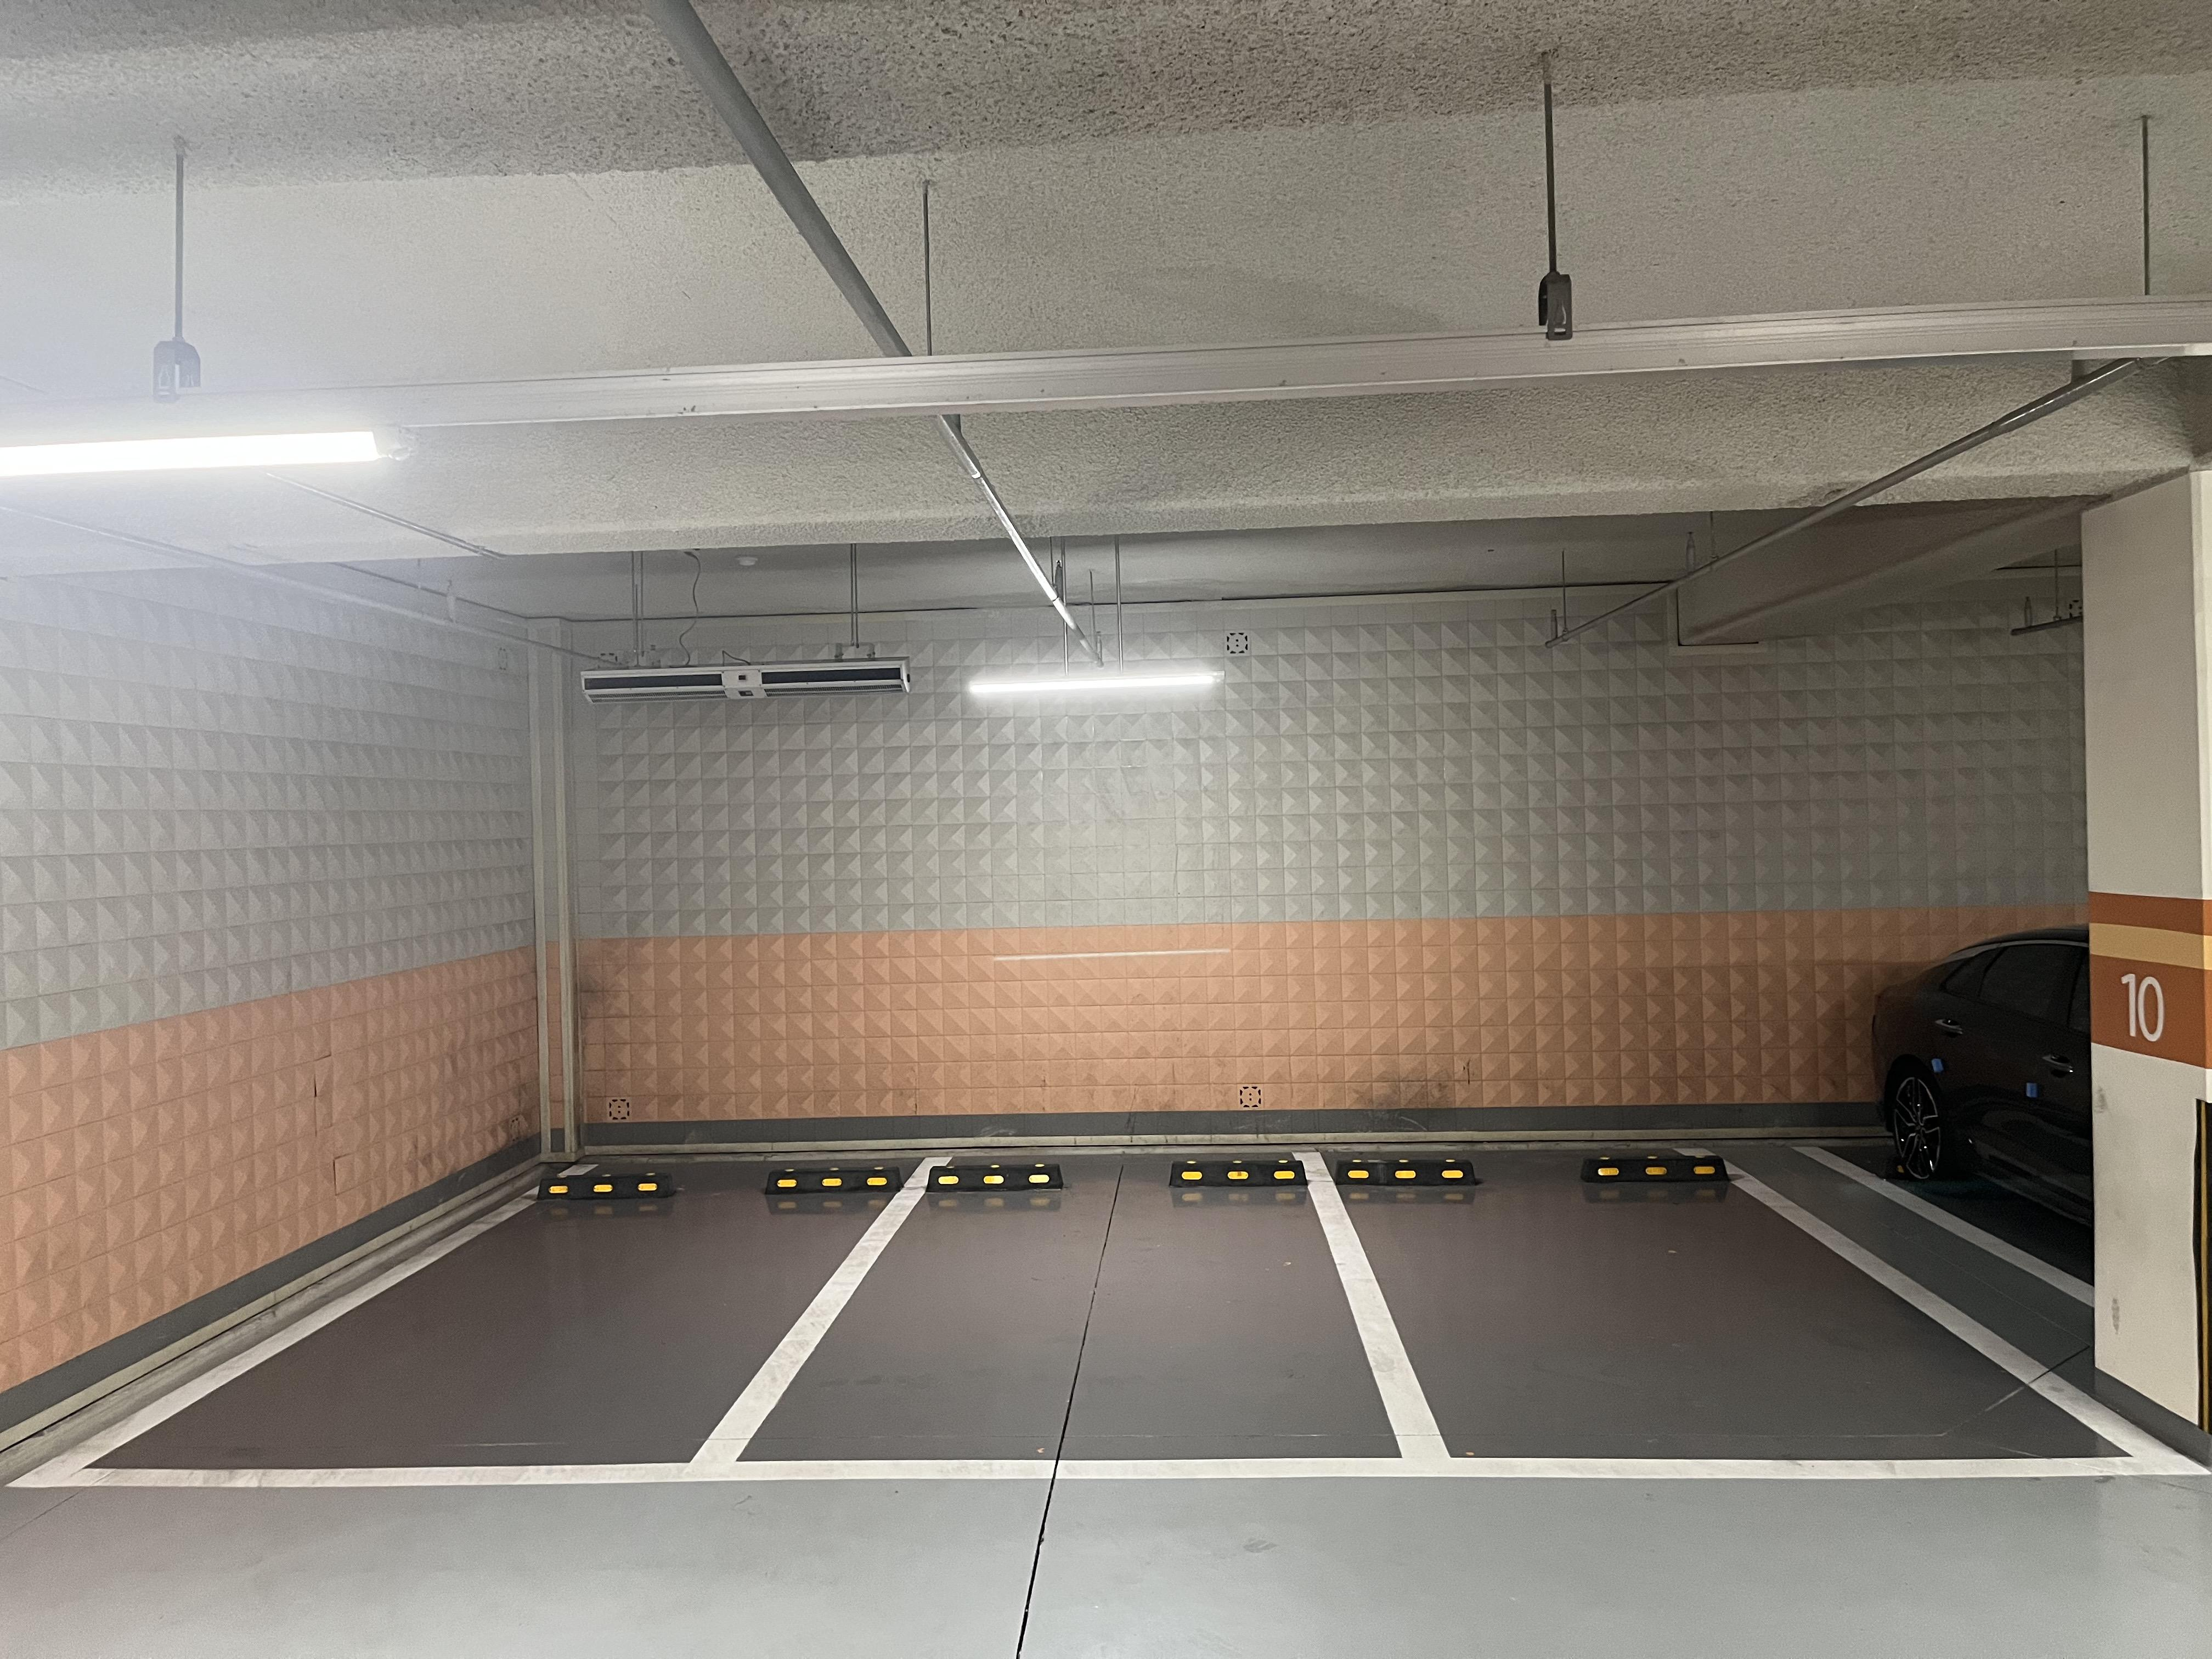empty: (4, 1147, 943, 1490), (1312, 1132, 2211, 1481), (671, 1135, 1436, 1492)
